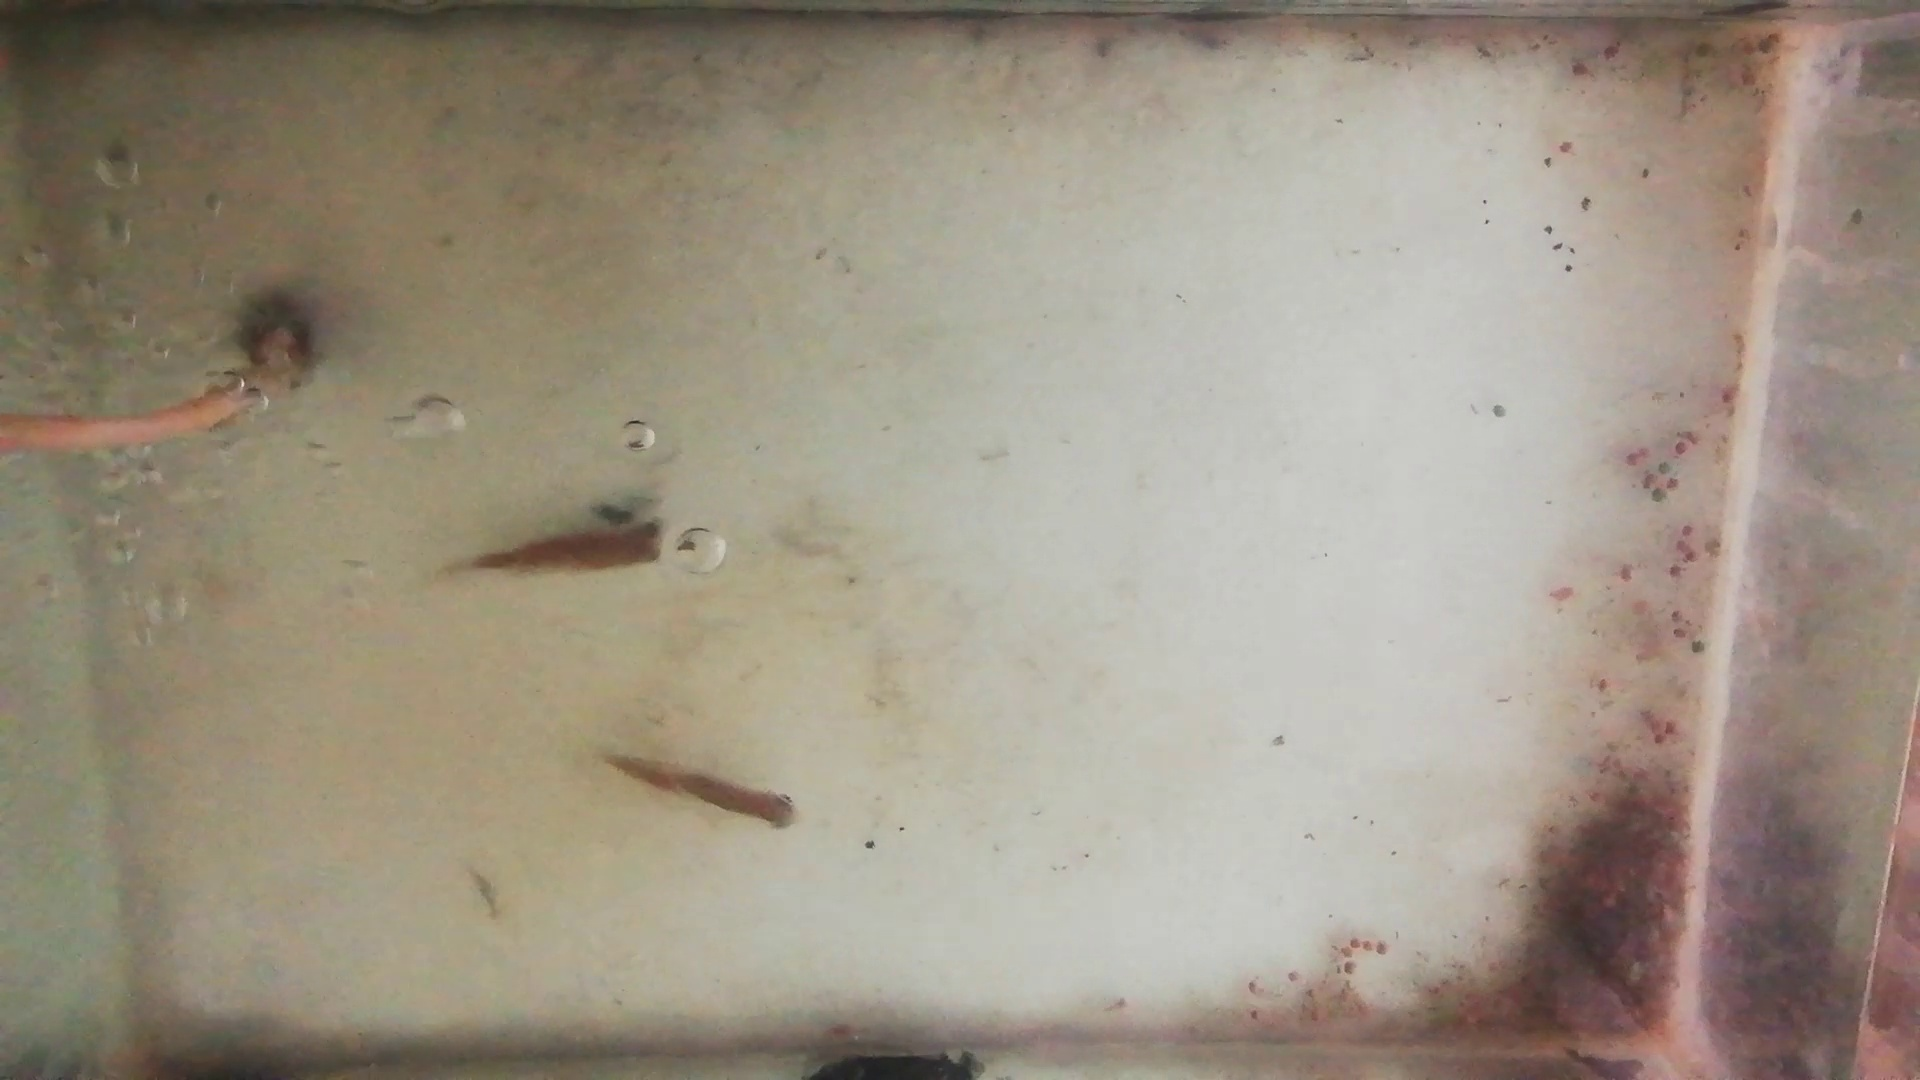fish: (597, 748, 804, 833), (455, 521, 669, 570)
